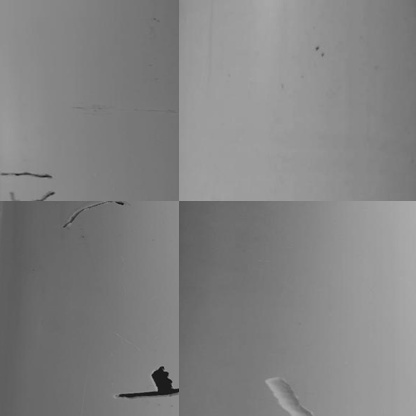fengxi: (62, 201, 131, 227), (113, 388, 180, 401), (1, 166, 54, 182), (9, 189, 57, 201)
kongdong: (150, 363, 174, 391)
sunshang: (262, 374, 316, 416)
